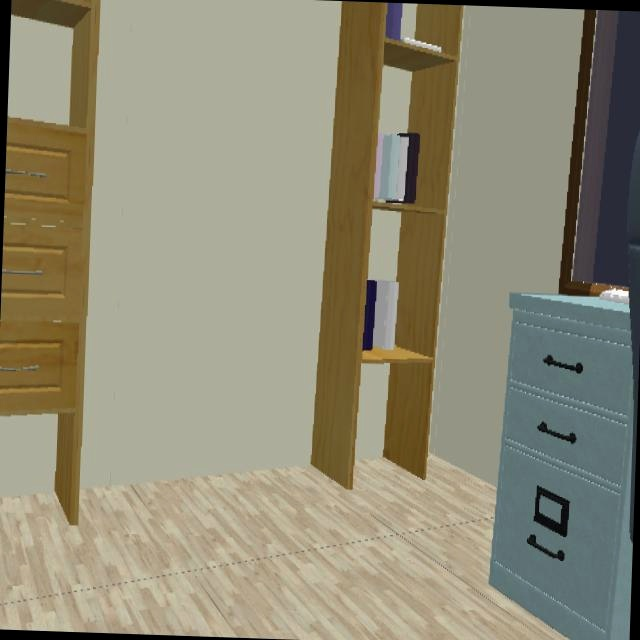book: (376, 133, 418, 202), (363, 280, 398, 353), (386, 2, 402, 40)
cabinet: (488, 293, 634, 640), (0, 1, 91, 525)
chair: (625, 131, 640, 310)
shelf: (310, 1, 463, 490)
